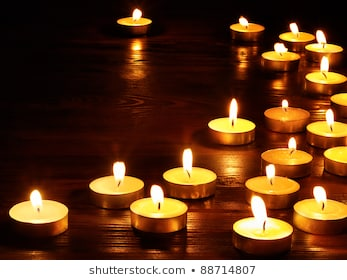Fire: (249, 193, 271, 227), (180, 145, 197, 181), (310, 183, 332, 210), (110, 157, 129, 185), (28, 187, 46, 211), (317, 53, 333, 77), (149, 181, 164, 206), (227, 97, 241, 123), (322, 106, 337, 130), (264, 163, 278, 182), (316, 27, 330, 46), (237, 14, 253, 30), (272, 42, 290, 56), (289, 22, 303, 39), (129, 7, 144, 21), (287, 136, 298, 153), (280, 98, 290, 111)
